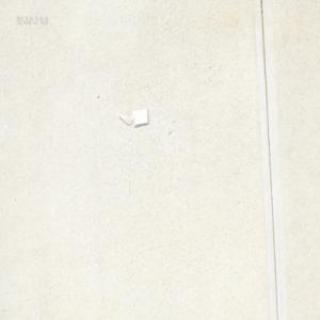LuggageTagtrack_idkeyframe: (115, 106, 149, 125)
